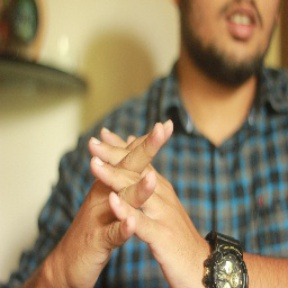W: (63, 99, 186, 270)
